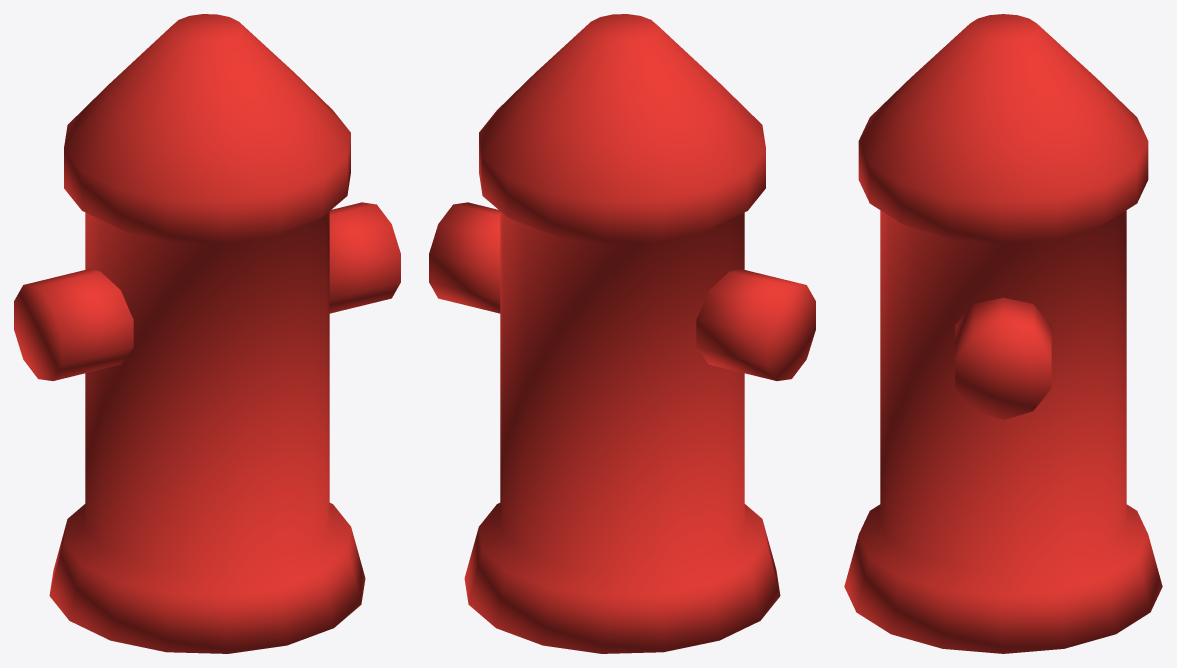
Rendered from hydrant.glb.
3 renders of one model, left to right at view 1: azimuth 30°, elevation 25°; view 2: azimuth 150°, elevation 25°; view 3: azimuth 270°, elevation 25°, orthographic.
Visible parts, largest first — view 1: Body; view 2: Body; view 3: Body.
Boxes of the visible parts, left/top/right/bottom form: Body: left=14, top=14, right=400, bottom=653; Body: left=429, top=14, right=815, bottom=653; Body: left=844, top=14, right=1162, bottom=653.
Size of the model in its own units: 0.54 by 0.85 by 0.44.
